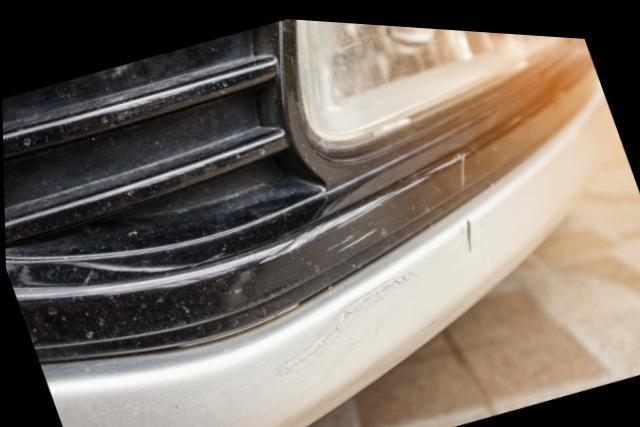scratch: (179, 183, 398, 288), (265, 268, 418, 386)
